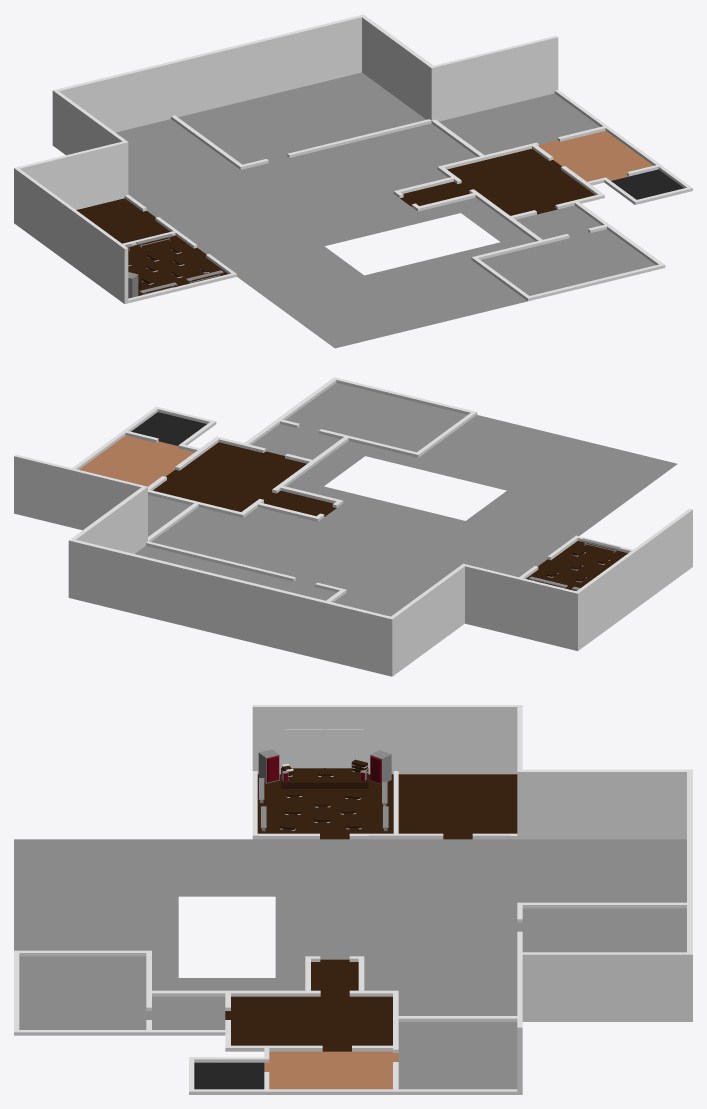
The model's file is Salle_010_b.FBX.
The picture shows the model from 3 angles, top to bottom: view 1: azimuth 30°, elevation 25°; view 2: azimuth 150°, elevation 25°; view 3: azimuth 270°, elevation 25°; orthographic projection. The views are drawn at different scales.
Visible parts, largest first — view 1: Piece_010; view 2: Piece_010; view 3: Piece_010, Box011, Baffle_013, Baffle_016.
Part boxes in pixels (x1,y1,x2,y2): Piece_010: (14,14,692,348); Piece_010: (14,377,692,676); Piece_010: (14,705,692,1094); Box011: (281,729,368,788); Baffle_013: (370,750,391,784); Baffle_016: (258,749,279,783).
Bounding box in the file's own units: 3085 × 300 × 2744.
